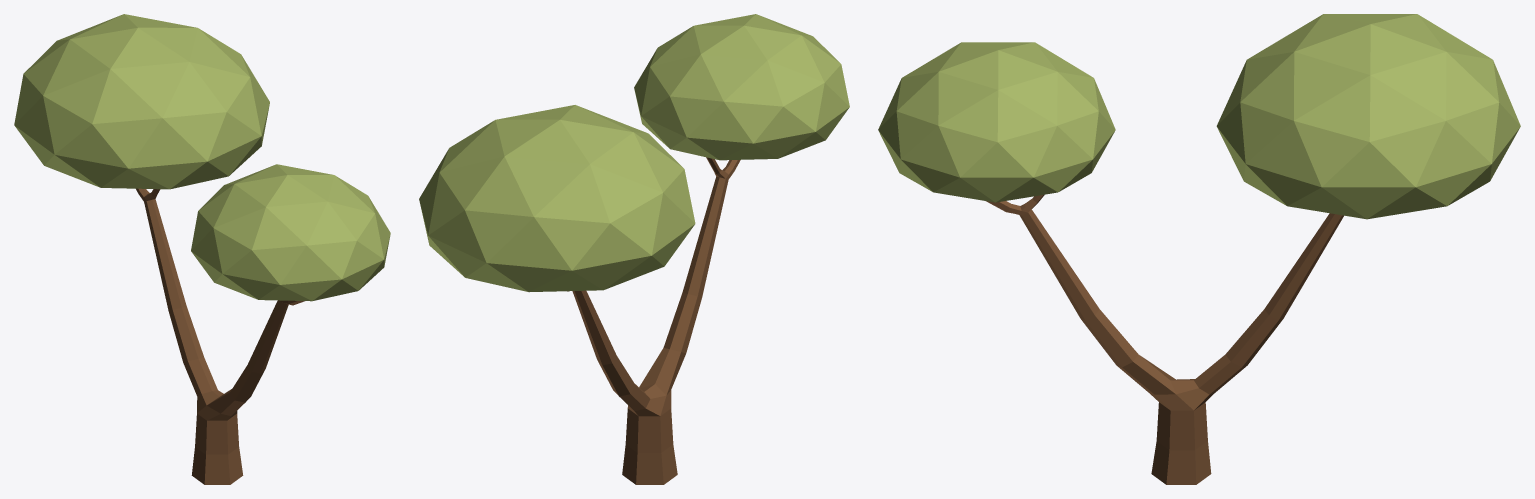
Rendered from tree_q2.glb.
3 views of the same model, side by side, from view 1: azimuth 30°, elevation 25°; view 2: azimuth 150°, elevation 25°; view 3: azimuth 270°, elevation 25° (orthographic). The views are drawn at different scales.
Parts seen in each view (by area): view 1: Tree2_Icosphere.001; view 2: Tree2_Icosphere.001; view 3: Tree2_Icosphere.001.
Part boxes in pixels (x1,y1,x2,y2): Tree2_Icosphere.001: (14,14,390,484); Tree2_Icosphere.001: (419,14,849,484); Tree2_Icosphere.001: (878,14,1520,484).
Bounding box in the file's own units: 2.33 × 4 × 5.17.
